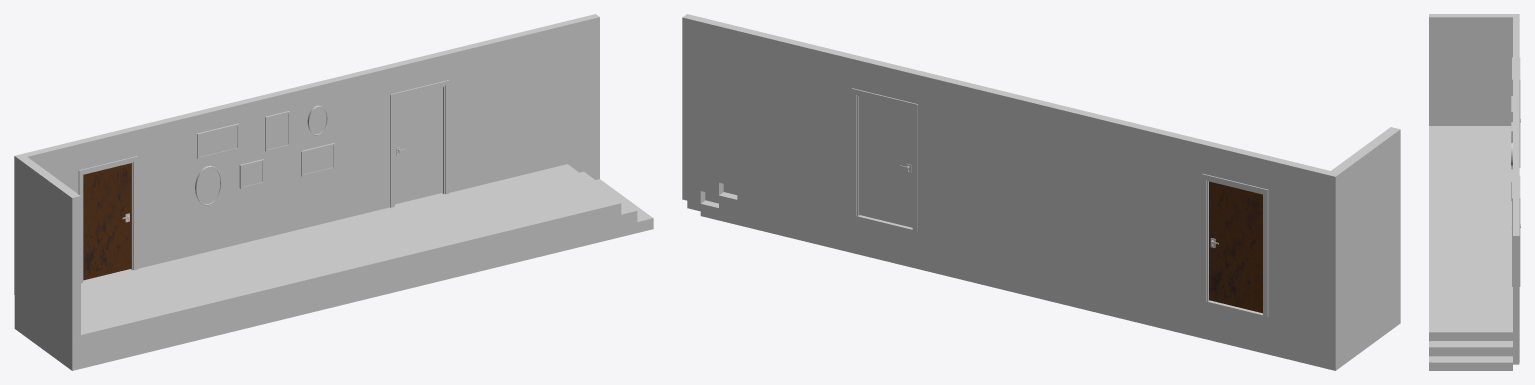
File: Corredor.fbx
The picture shows the model from 3 angles, left to right: view 1: azimuth 30°, elevation 25°; view 2: azimuth 150°, elevation 25°; view 3: azimuth 270°, elevation 25°; orthographic projection. The views are drawn at different scales.
Parts seen in each view (by area): view 1: CorredorParede, CorredorChão, CorredorChãoFundo, PortaSolteiro, PortaCasal, CorredorTeto, PortaCasalAbertura, PortaSolteiroAbertura, CorredorEscada, QuadroTela4, QuadroOvalTela2, QuadroTela3 (+1 smaller); view 2: CorredorParede, CorredorChãoFundo, PortaCasal, PortaSolteiro, CorredorTeto, CorredorChão, PortaCasalAbertura, PortaSolteiroAbertura; view 3: CorredorChão, CorredorParede, CorredorEscada, CorredorTeto, CorredorChãoFundo, PortaCasalAbertura, PortaSolteiroAbertura.
Part boxes in pixels (<box>): CorredorParede: <box>14,18,599,336</box>; CorredorChão: <box>81,168,602,333</box>; CorredorChãoFundo: <box>14,202,653,370</box>; PortaSolteiro: <box>83,163,131,280</box>; PortaCasal: <box>395,87,442,204</box>; CorredorTeto: <box>14,14,599,199</box>; PortaCasalAbertura: <box>390,80,449,207</box>; PortaSolteiroAbertura: <box>78,156,137,283</box>; CorredorEscada: <box>551,164,651,220</box>; QuadroTela4: <box>199,126,237,156</box>; QuadroOvalTela2: <box>197,167,220,204</box>; QuadroTela3: <box>267,113,288,149</box>; CorredorParede: <box>682,18,1400,332</box>; CorredorChãoFundo: <box>700,190,1400,370</box>; PortaCasal: <box>858,96,912,227</box>; PortaSolteiro: <box>1209,181,1262,313</box>; CorredorTeto: <box>682,14,1400,177</box>; CorredorChão: <box>737,187,1332,334</box>; PortaCasalAbertura: <box>851,88,917,231</box>; PortaSolteiroAbertura: <box>1202,173,1268,316</box>; CorredorChão: <box>1431,126,1512,325</box>; CorredorParede: <box>1429,18,1519,362</box>; CorredorEscada: <box>1431,326,1512,370</box>; CorredorTeto: <box>1429,14,1519,236</box>; CorredorChãoFundo: <box>1429,126,1519,370</box>; PortaCasalAbertura: <box>1512,176,1520,286</box>; PortaSolteiroAbertura: <box>1512,57,1520,167</box>.
Bounding box in the file's own units: 432 × 123 × 75.42.
